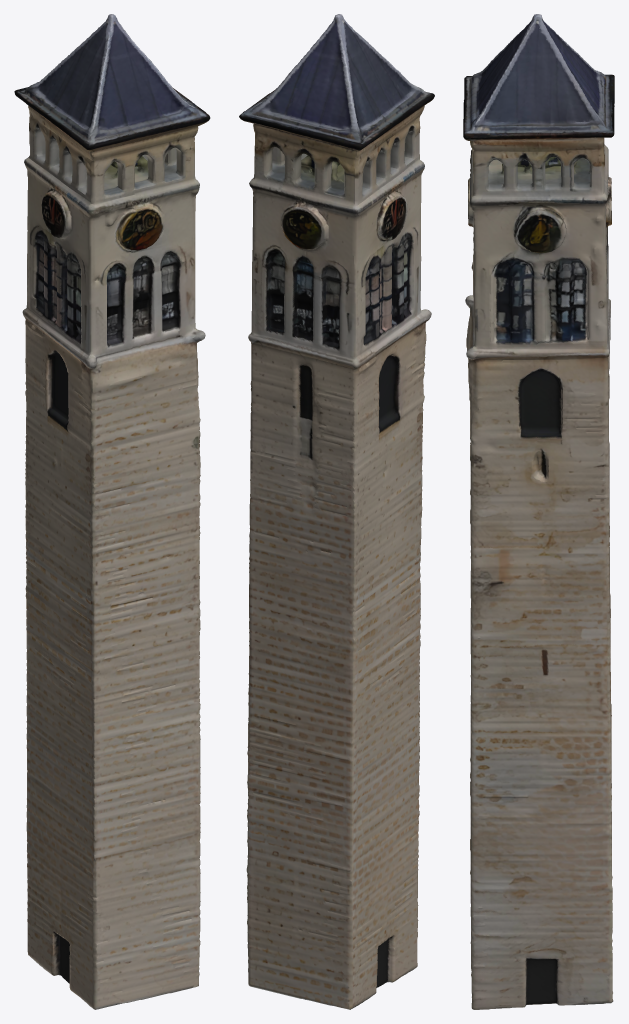
File: clock-tower.glb
3 renders of one model, left to right at view 1: azimuth 30°, elevation 25°; view 2: azimuth 150°, elevation 25°; view 3: azimuth 270°, elevation 25°, orthographic.
Visible parts, largest first — view 1: tripo_node_b56a2f93-f555-453e-870b-ca9fc67a49c8; view 2: tripo_node_b56a2f93-f555-453e-870b-ca9fc67a49c8; view 3: tripo_node_b56a2f93-f555-453e-870b-ca9fc67a49c8.
Boxes of the visible parts, x1,y1,x2,y2 form: tripo_node_b56a2f93-f555-453e-870b-ca9fc67a49c8: [14, 14, 210, 1009]; tripo_node_b56a2f93-f555-453e-870b-ca9fc67a49c8: [239, 14, 434, 1009]; tripo_node_b56a2f93-f555-453e-870b-ca9fc67a49c8: [463, 14, 614, 1009].
Bounding box in the file's own units: 0.1343 × 1 × 0.1417.
Materials: 1 (1 with a texture image).
